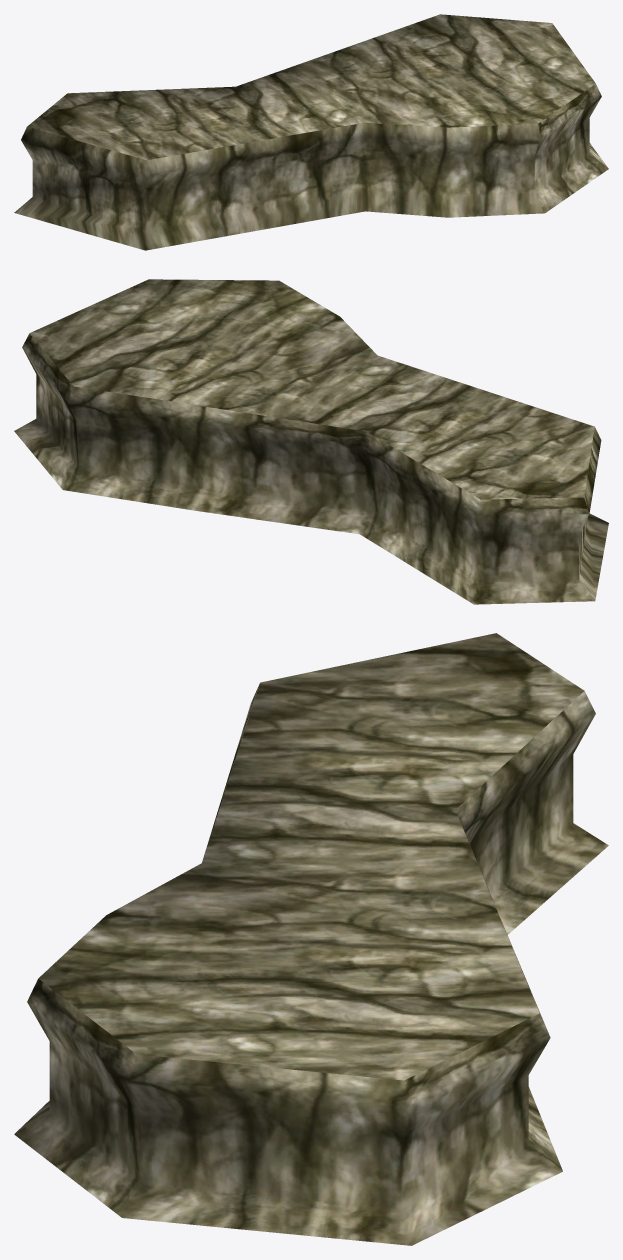
Rendered from CB_NEWPLAYSURFACE_CB_PLAYSURFACE128.fbx.
3 views of the same model, one above another, from view 1: azimuth 30°, elevation 25°; view 2: azimuth 150°, elevation 25°; view 3: azimuth 270°, elevation 25° (orthographic). The views are drawn at different scales.
Visible parts, largest first — view 1: CB_NEWPLAYSURFACE_CB_PLAYSURFACE128; view 2: CB_NEWPLAYSURFACE_CB_PLAYSURFACE128; view 3: CB_NEWPLAYSURFACE_CB_PLAYSURFACE128.
Boxes of the visible parts, x1=… form: CB_NEWPLAYSURFACE_CB_PLAYSURFACE128: x1=14, y1=14, x2=608, y2=250; CB_NEWPLAYSURFACE_CB_PLAYSURFACE128: x1=14, y1=279, x2=608, y2=604; CB_NEWPLAYSURFACE_CB_PLAYSURFACE128: x1=14, y1=633, x2=608, y2=1245.
Bounding box in the file's own units: 185865 × 28823 × 99981.
2 materials, 2 textured.
